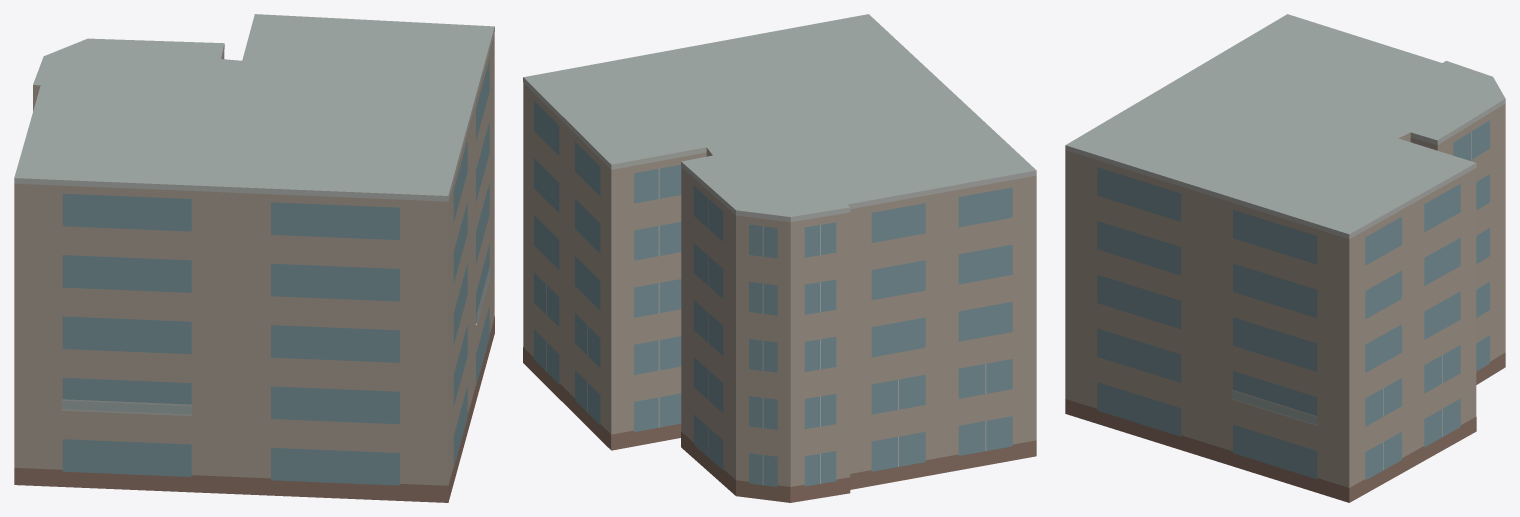
File: survey-upis-32772884.glb
The picture shows the model from 3 angles, left to right: view 1: azimuth 30°, elevation 25°; view 2: azimuth 150°, elevation 25°; view 3: azimuth 270°, elevation 25°; orthographic projection. The views are drawn at different scales.
Parts seen in each view (by area): view 1: survey-upis-32772884.tmp; view 2: survey-upis-32772884.tmp; view 3: survey-upis-32772884.tmp.
Part boxes in pixels (x1,y1,x2,y2): survey-upis-32772884.tmp: (14,14,494,502); survey-upis-32772884.tmp: (523,14,1036,502); survey-upis-32772884.tmp: (1065,14,1505,502).
Size of the model in its own units: 23.71 by 13.47 by 20.02.
